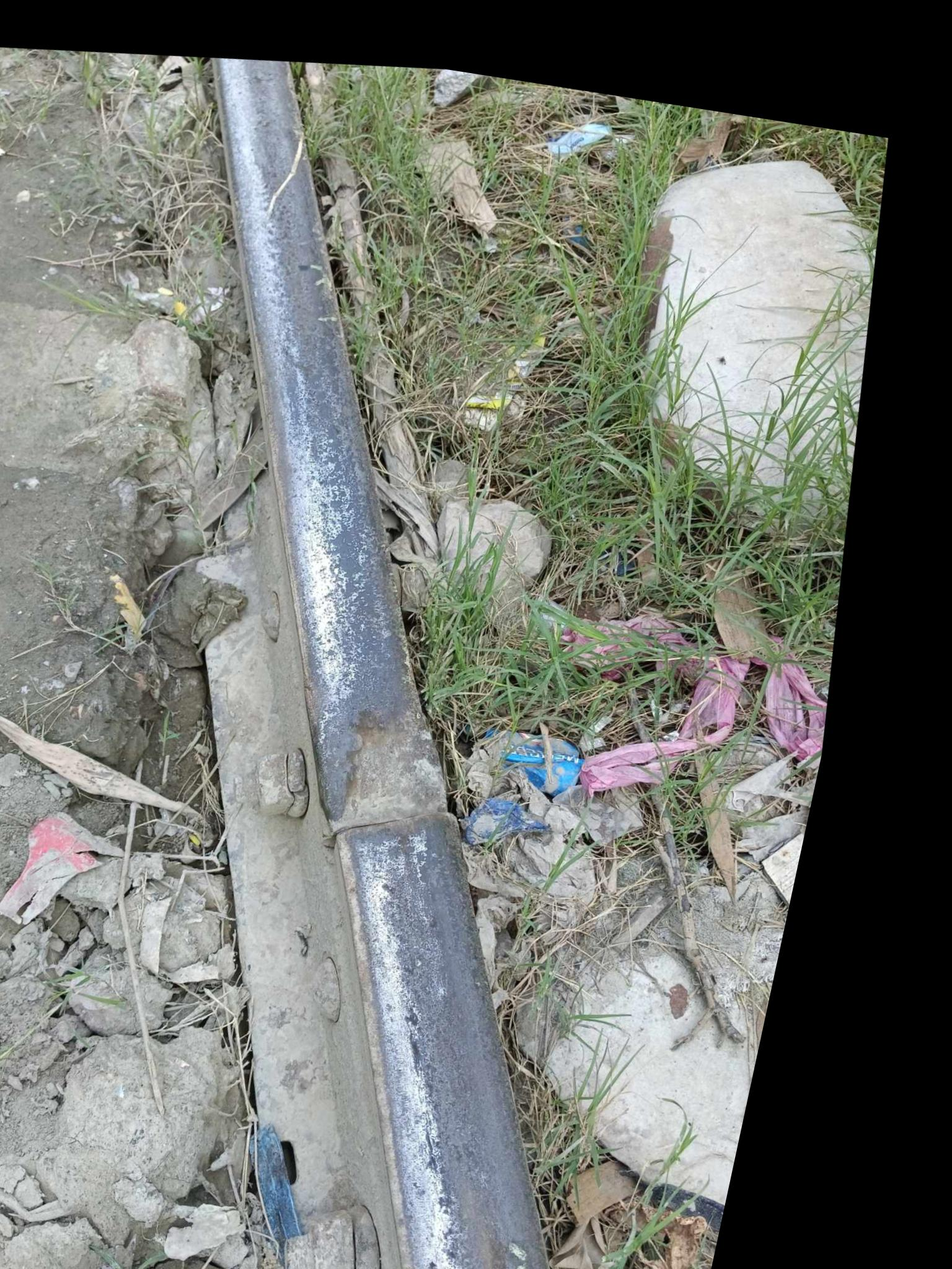person: (273, 663, 568, 938)
